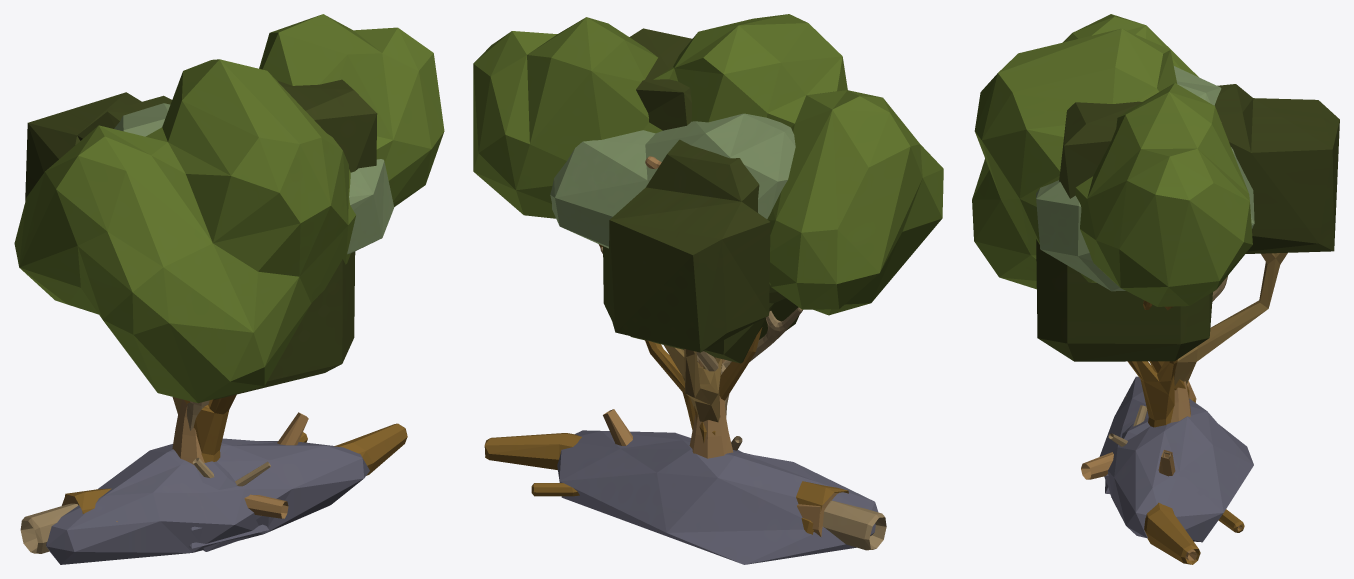
File: piedras arboles y troncos.fbx
3 renders of one model, left to right at view 1: azimuth 30°, elevation 25°; view 2: azimuth 150°, elevation 25°; view 3: azimuth 270°, elevation 25°, orthographic. The views are drawn at different scales.
Parts seen in each view (by area): view 1: Arbol01, Piedra02, Arbol03, Arbol05, Tronco02, Tronco04, Piedra05, Arbol02, Tronco03, Tronco01; view 2: Arbol01, Arbol03, Piedra02, Arbol05, Tronco02, Tronco04, Arbol02, Arbol04, Tronco01; view 3: Arbol01, Arbol03, Piedra02, Arbol05, Tronco02, Tronco03, Arbol02.
Boxes of the visible parts, x1,y1,x2,y2 form: Arbol01: (14,14,444,462); Piedra02: (46,438,369,564); Arbol03: (25,79,377,413); Arbol05: (114,103,394,254); Tronco02: (65,423,407,513); Tronco04: (20,414,304,553); Piedra05: (190,461,268,551); Arbol02: (172,399,204,464); Tronco03: (116,494,288,521); Tronco01: (61,412,308,505); Arbol01: (473,14,943,430); Arbol03: (603,28,799,422); Piedra02: (557,430,878,564); Arbol05: (550,113,795,442); Tronco02: (484,433,848,513); Tronco04: (607,412,886,550); Arbol02: (645,156,733,458); Arbol04: (600,247,802,417); Tronco01: (603,409,838,536); Arbol01: (972,14,1252,427); Arbol03: (1036,84,1339,385); Piedra02: (1099,376,1253,542); Arbol05: (1036,66,1254,399); Tronco02: (1144,502,1244,564); Tronco03: (1081,396,1242,560); Arbol02: (1170,381,1190,422).
Size of the model in its own units: 319 by 368 by 267.
Materials: 1 (1 with a texture image).
